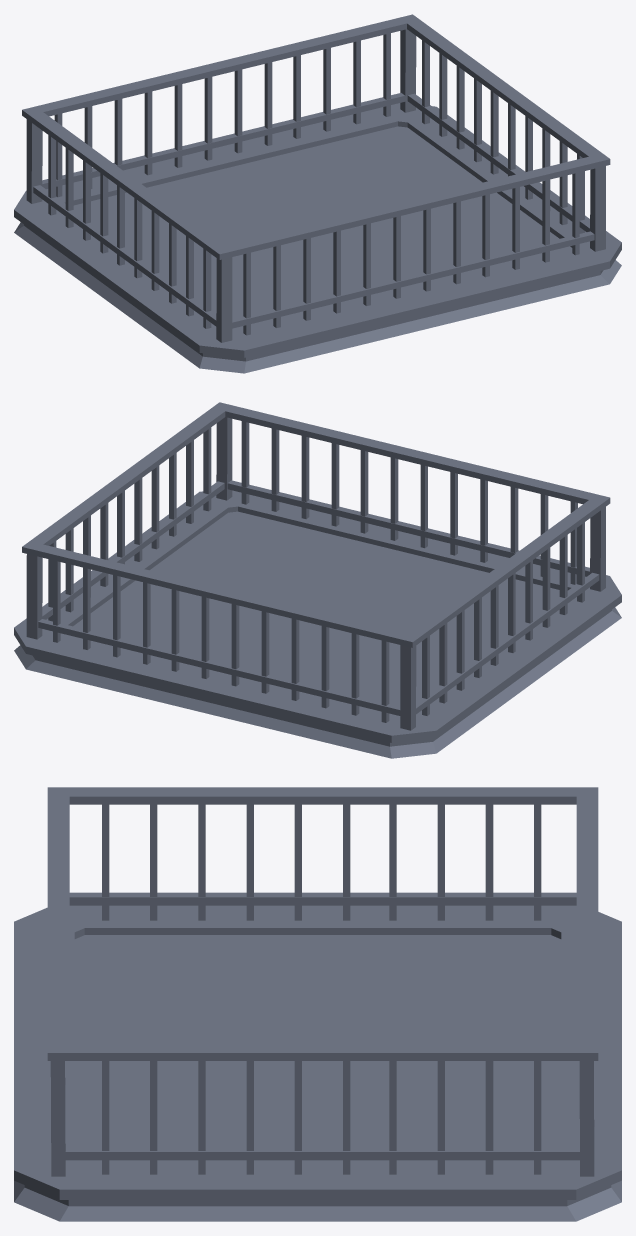
File: env_block_sidewalk_planter.glb
3 renders of one model, top to bottom at view 1: azimuth 30°, elevation 25°; view 2: azimuth 150°, elevation 25°; view 3: azimuth 270°, elevation 25°, orthographic. The views are drawn at different scales.
Parts seen in each view (by area): view 1: Sidewalk_Planter.gltf; view 2: Sidewalk_Planter.gltf; view 3: Sidewalk_Planter.gltf.
Part boxes in pixels (bbox=[...]): Sidewalk_Planter.gltf: bbox=[14, 14, 621, 373]; Sidewalk_Planter.gltf: bbox=[14, 402, 621, 758]; Sidewalk_Planter.gltf: bbox=[14, 787, 621, 1221].
Bounding box in the file's own units: 1.97 × 0.5057 × 1.77.
